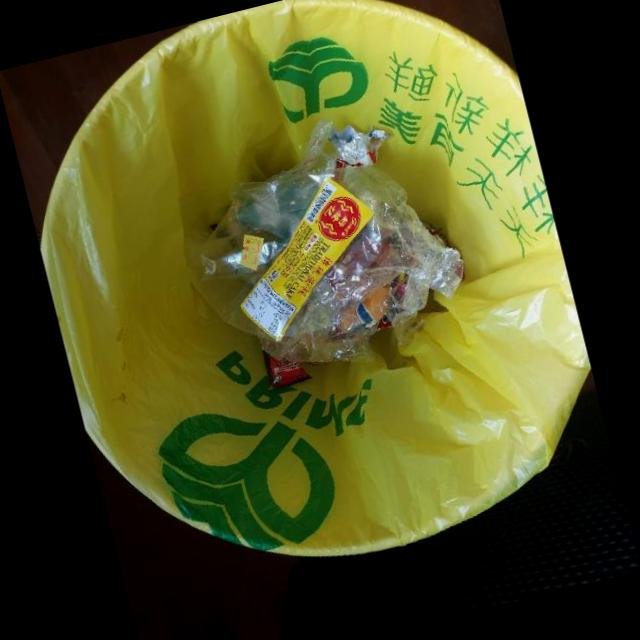bao_bi_thuc_pham: (260, 348, 314, 389)
tui_ni_long: (188, 164, 466, 336), (263, 261, 409, 362)
